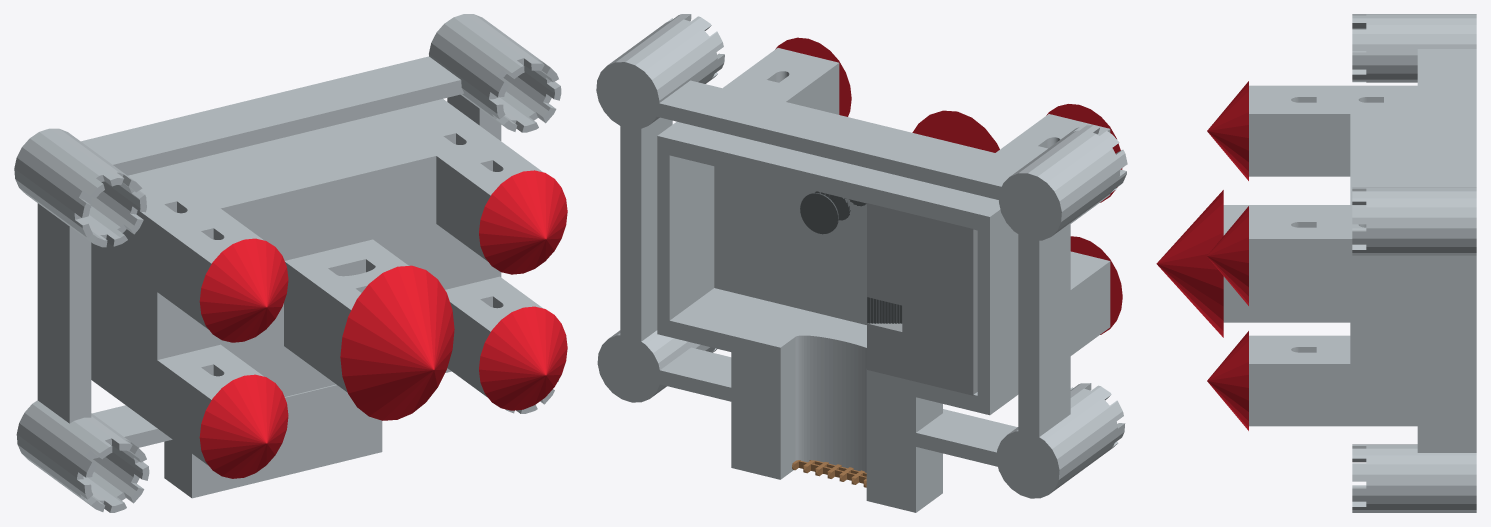
The model's file is Castle_object.obj.
3 views of the same model, side by side, from view 1: azimuth 30°, elevation 25°; view 2: azimuth 150°, elevation 25°; view 3: azimuth 270°, elevation 25° (orthographic). The views are drawn at different scales.
Parts seen in each view (by area): view 1: group_0_12568524, group_0_15277357; view 2: group_0_12568524, group_0_10988977, group_0_15277357, group_0_6383466, group_0_11107152; view 3: group_0_12568524, group_0_15277357.
Part boxes in pixels (x1=…): group_0_12568524: x1=14, y1=14, x2=561, y2=512; group_0_15277357: x1=199, y1=170, x2=567, y2=478; group_0_12568524: x1=596, y1=14, x2=1127, y2=512; group_0_10988977: x1=867, y1=203, x2=977, y2=395; group_0_15277357: x1=775, y1=37, x2=1122, y2=334; group_0_6383466: x1=800, y1=191, x2=902, y2=323; group_0_11107152: x1=792, y1=460, x2=866, y2=487; group_0_12568524: x1=1223, y1=14, x2=1476, y2=512; group_0_15277357: x1=1156, y1=81, x2=1248, y2=430.
Size of the model in its own units: 368 by 287 by 232.
